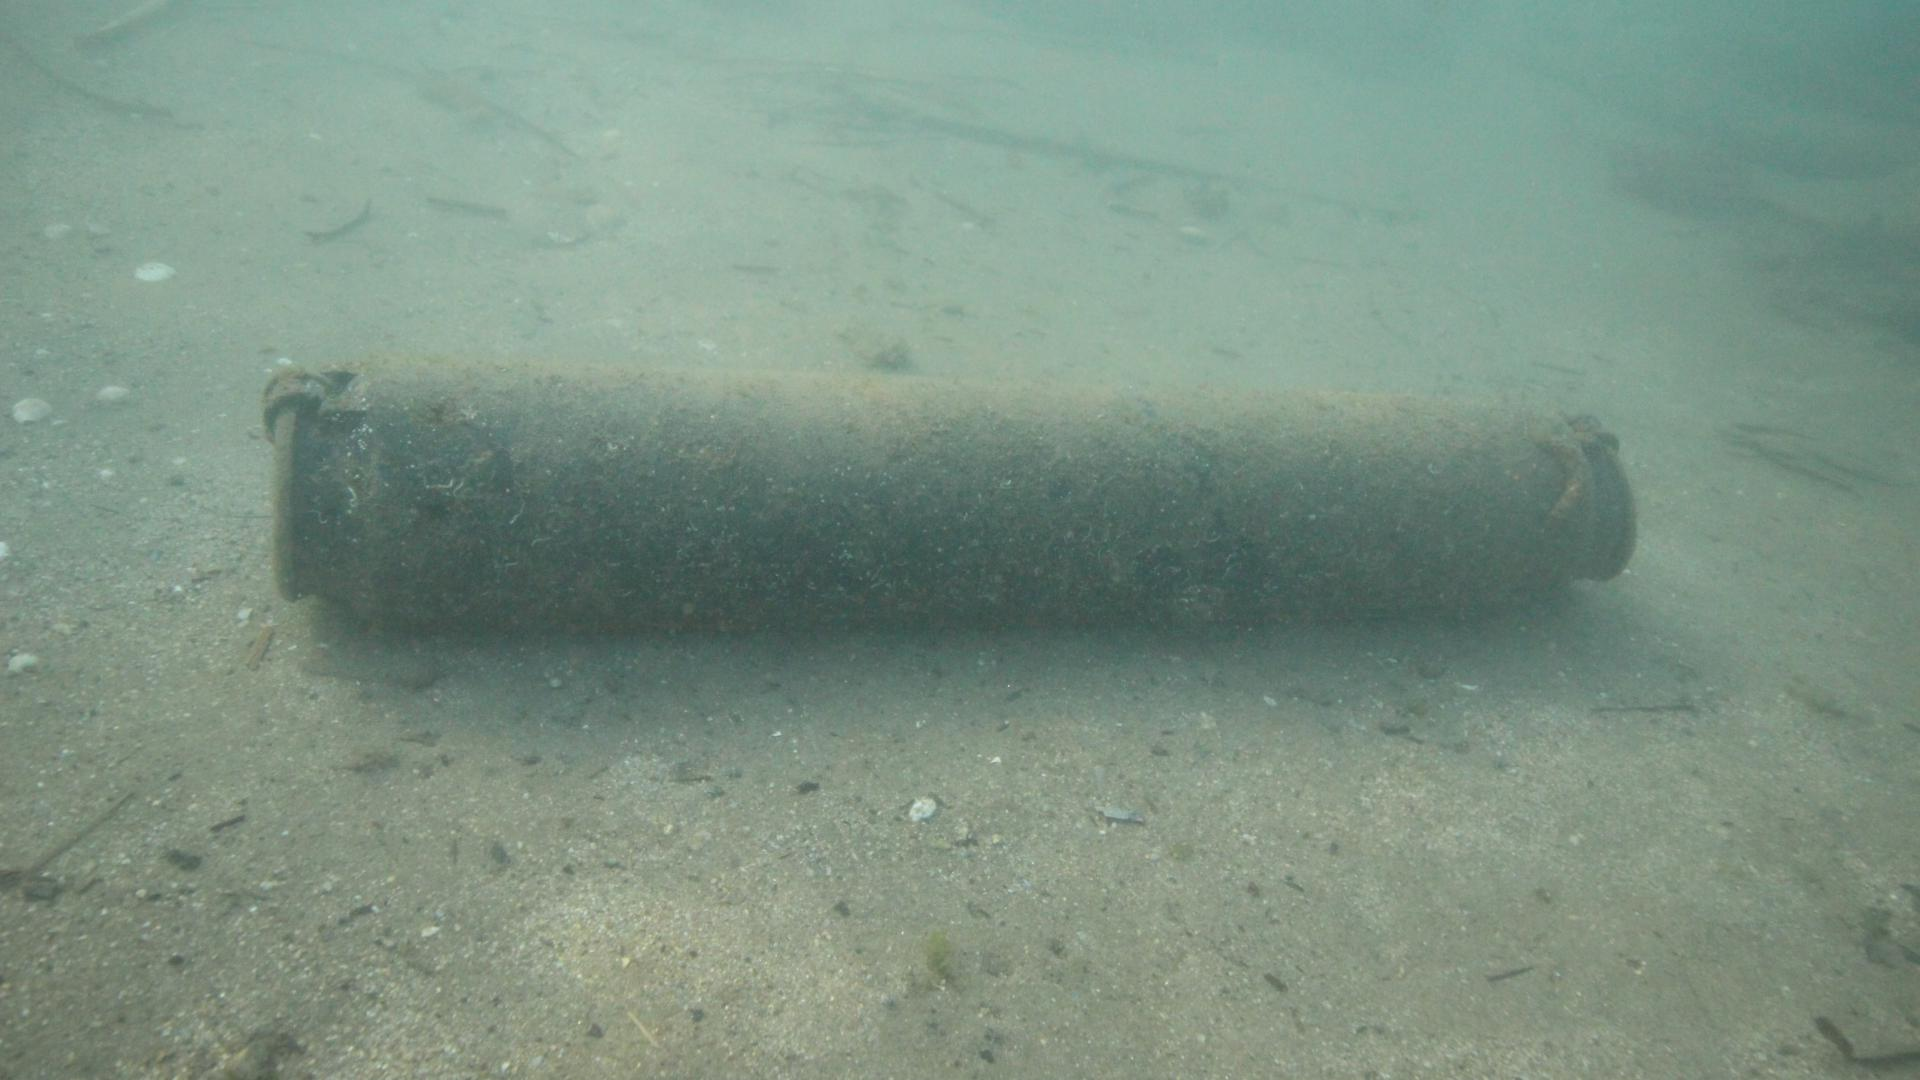eel fish trap: (266, 353, 1635, 633)
